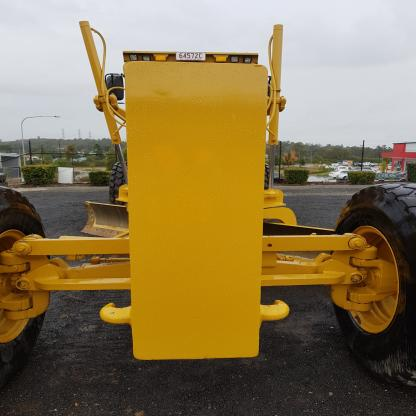bull_dozer/loader/grader: (7, 13, 416, 387)
